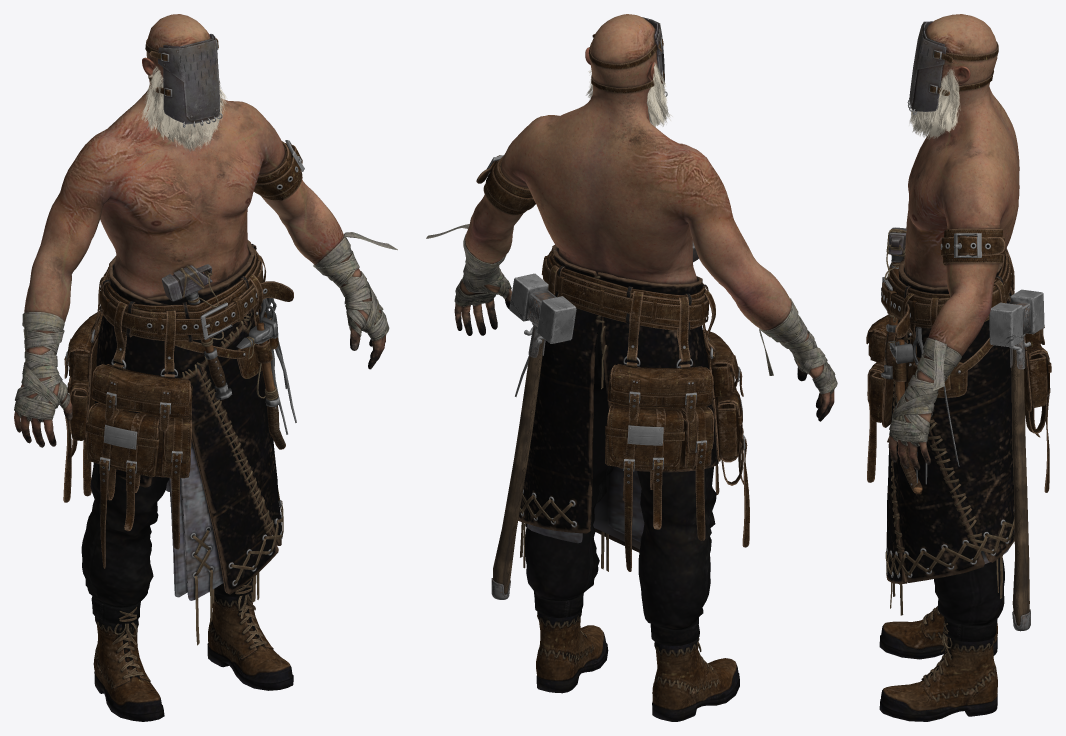
File: player.glb
The picture shows the model from 3 angles, left to right: view 1: azimuth 30°, elevation 25°; view 2: azimuth 150°, elevation 25°; view 3: azimuth 270°, elevation 25°; orthographic projection. The views are drawn at different scales.
Parts seen in each view (by area): view 1: BS_Cloth1, BS_Body1, Bs_Beard_Hair04; view 2: BS_Cloth1, BS_Body1, Long_hammer_low1, Bs_Beard_Hair04; view 3: BS_Cloth1, BS_Body1, Long_hammer_low1, Bs_Beard_Hair04.
Part boxes in pixels (x1=…): BS_Cloth1: x1=14, y1=34, x2=397, y2=721; BS_Body1: x1=14, y1=14, x2=385, y2=447; Bs_Beard_Hair04: x1=141, y1=66, x2=227, y2=152; BS_Cloth1: x1=426, y1=17, x2=837, y2=721; BS_Body1: x1=454, y1=14, x2=834, y2=421; Long_hammer_low1: x1=491, y1=273, x2=576, y2=599; Bs_Beard_Hair04: x1=586, y1=62, x2=672, y2=127; BS_Cloth1: x1=866, y1=21, x2=1051, y2=721; BS_Body1: x1=888, y1=14, x2=1019, y2=470; Long_hammer_low1: x1=989, y1=289, x2=1044, y2=631; Bs_Beard_Hair04: x1=909, y1=69, x2=960, y2=139.
Size of the model in its own units: 1.07 by 1.74 by 0.439.
4 materials, 4 textured.
